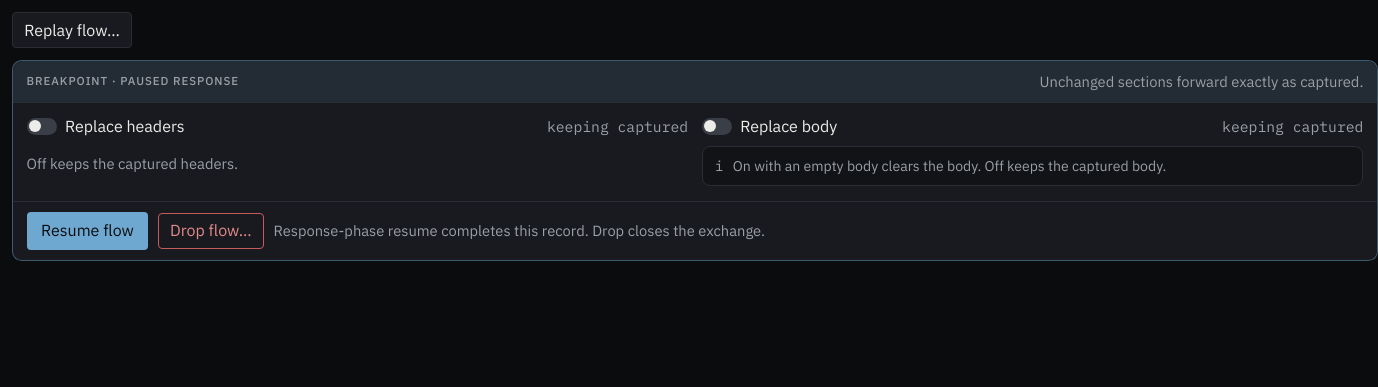
keeps problem code, retryability and the raw problem visible
Step 1. Click the button "Resume flow" → (87, 231), box [27,212,148,250]
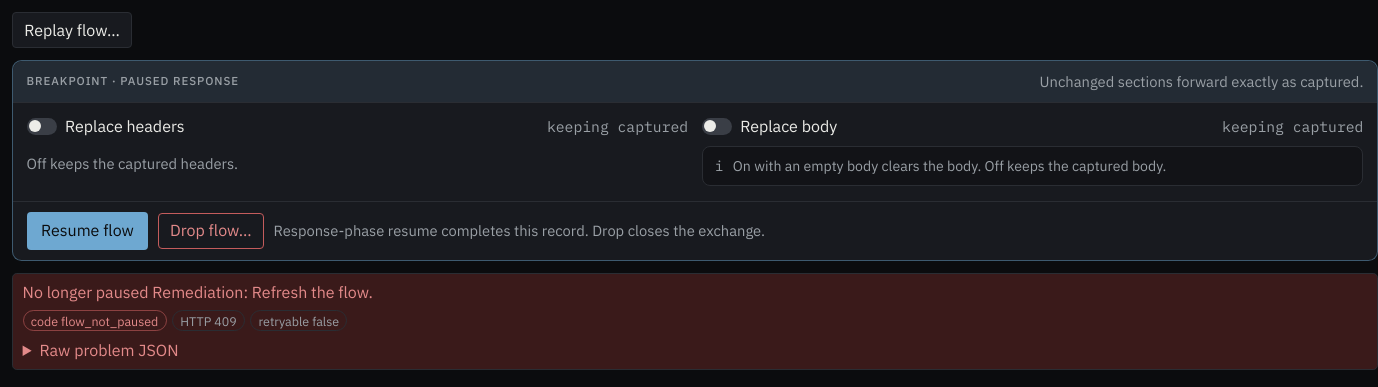
Expected: the message shows "No longer paused Remediation: Refresh the flow.", [23,282,373,302]
Expected: the message shows "code flow_not_paused", [12,273,1377,370]
Expected: the message shows "retryable false", [12,273,1377,370]
